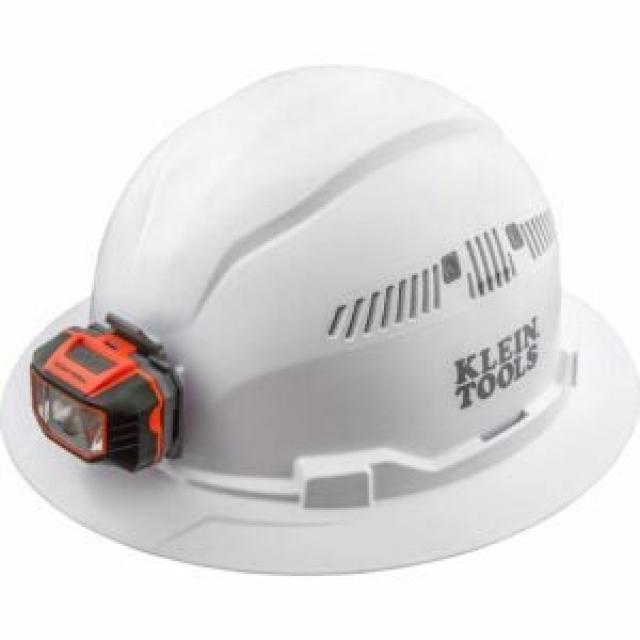helmet: (44, 68, 605, 545)
